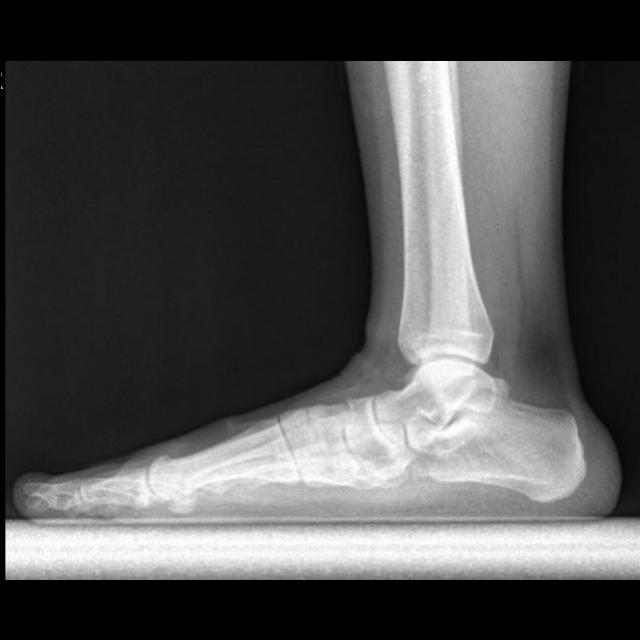a: (406, 379, 586, 503)
b: (342, 393, 406, 477)
c: (150, 414, 303, 503)
